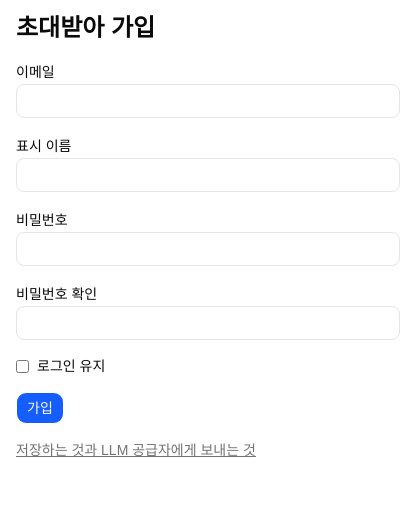
Scenario: InvitePage › 가입하는 사이 초대가 취소되면 그 까닭을 보인다
The image size is (417, 514).
Type "kim@example.com" into the field labelled "이메일". click: (208, 101)
box: 16,84 -> 400,118
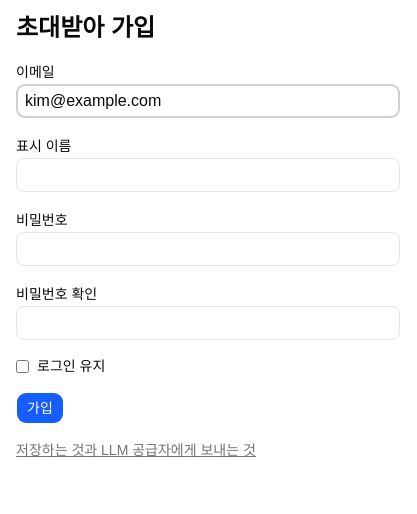
Type "김요즘" into the field labelled "표시 이름". click: (208, 175)
box: 16,158 -> 400,192
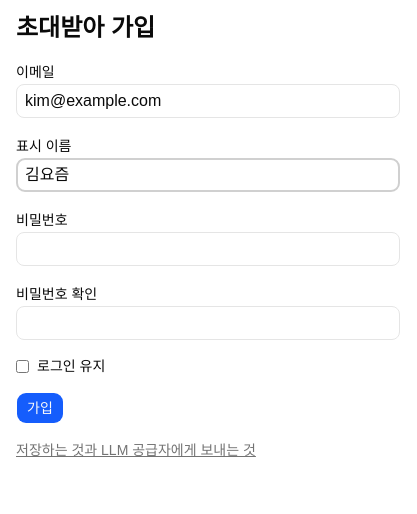
Type "correct horse" into the password field labelled "비밀번호". click: (208, 249)
box: 16,232 -> 400,266
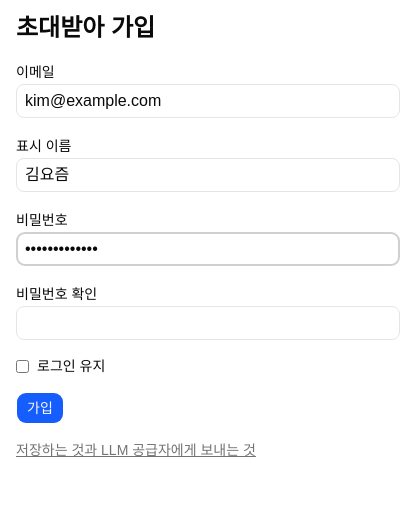
Type "correct horse" into the password field labelled "비밀번호 확인". click: (208, 323)
box: 16,306 -> 400,340
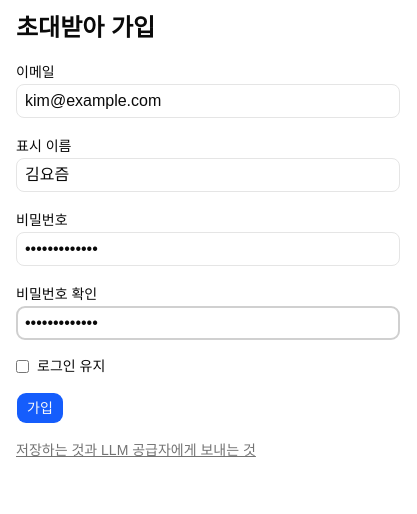
Click the button "가입". click: (40, 408)
box: 16,392 -> 64,424
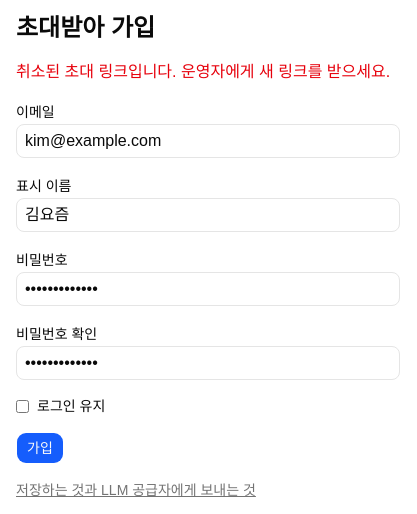
Expected: the message reads "취소된 초대 링크입니다. 운영자에게 새 링크를 받으세요.", 16,63 -> 390,80
